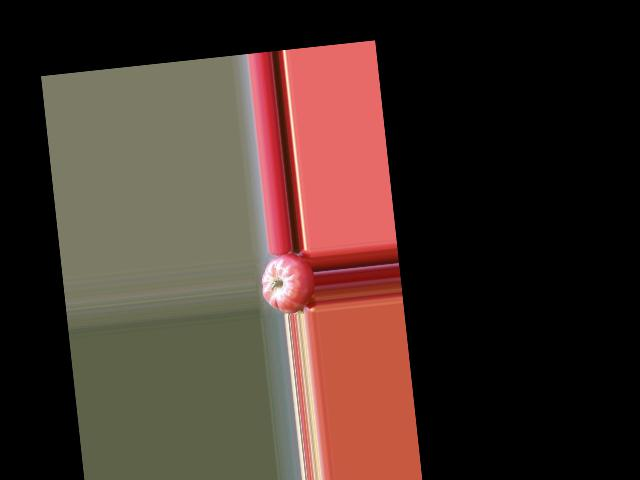tomato: (259, 251, 318, 316)
